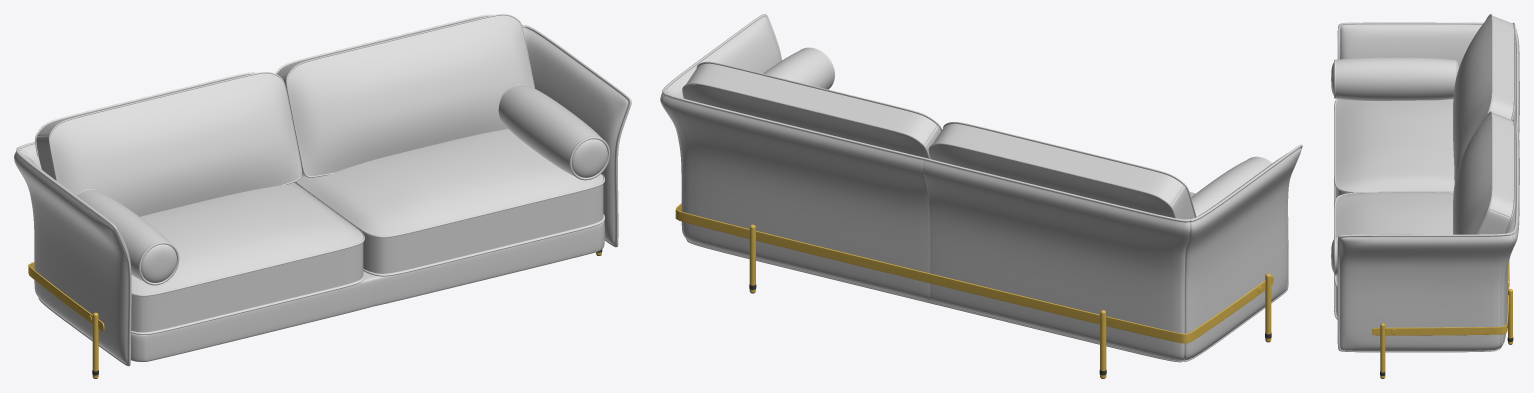
Rendered from SLN_Oasis_2.5_Seater.glb.
3 renders of one model, left to right at view 1: azimuth 30°, elevation 25°; view 2: azimuth 150°, elevation 25°; view 3: azimuth 270°, elevation 25°, orthographic. The views are drawn at different scales.
Parts seen in each view (by area): view 1: Oasis_2.5_Seater; view 2: Oasis_2.5_Seater; view 3: Oasis_2.5_Seater.
Boxes of the visible parts, bbox=[...] form: Oasis_2.5_Seater: bbox=[14, 14, 631, 378]; Oasis_2.5_Seater: bbox=[660, 14, 1302, 378]; Oasis_2.5_Seater: bbox=[1331, 14, 1519, 378].
Bounding box in the file's own units: 2.27 × 0.8401 × 0.8435.
